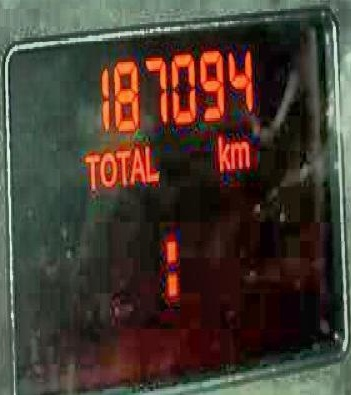0: (168, 48, 196, 122)
1: (97, 60, 110, 131)
4: (226, 46, 253, 113)
7: (142, 51, 167, 124)
8: (111, 55, 138, 133)
9: (197, 46, 224, 120)
X: (163, 235, 177, 295), (82, 151, 99, 189), (230, 138, 249, 169), (130, 144, 145, 182), (101, 149, 115, 187), (116, 146, 130, 184), (143, 144, 157, 182), (217, 133, 228, 171)
